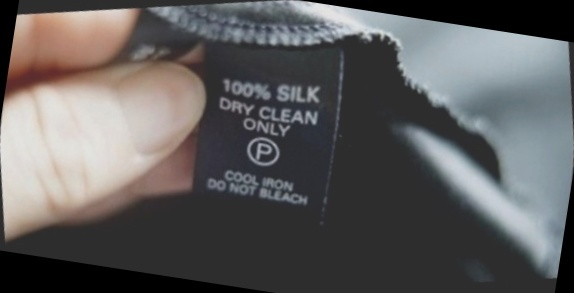dry_clean_any_solvent_except_trichloroethylene: (239, 126, 290, 175)
